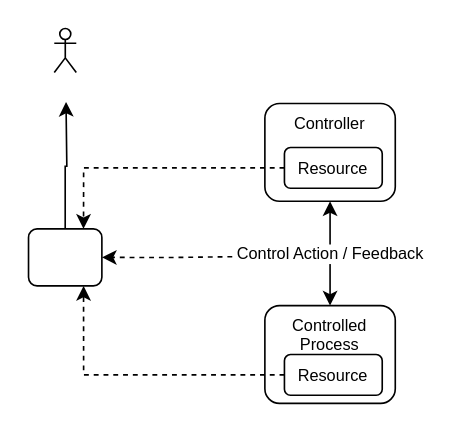
The diagram is 450 pixels wide and 432 high, and some of its shapes have lost their labels. Each missing label, with the box of its shape:
Operator: (53, 27, 76, 73)
Sentinel: (27, 227, 102, 286)
